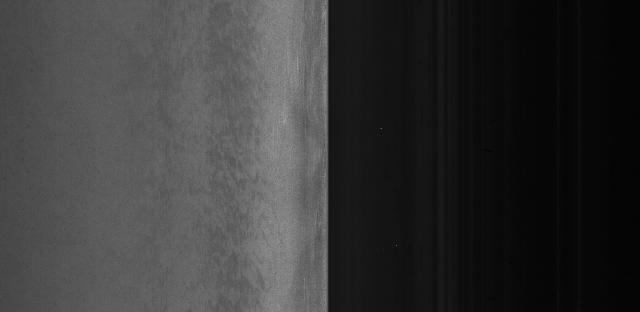silk_spot: (191, 64, 281, 285)
